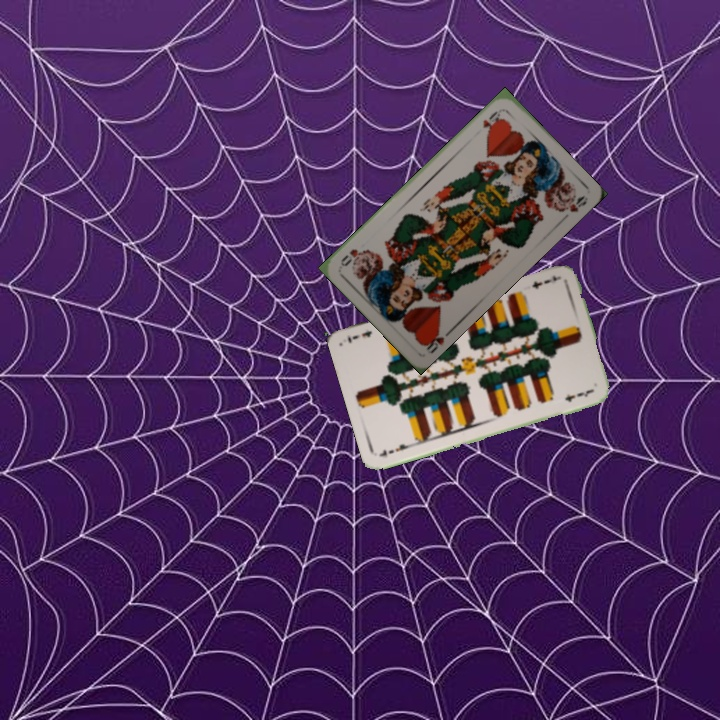E7: (375, 439, 415, 459), (528, 271, 562, 291)
HO: (417, 325, 455, 356), (478, 107, 504, 134)
